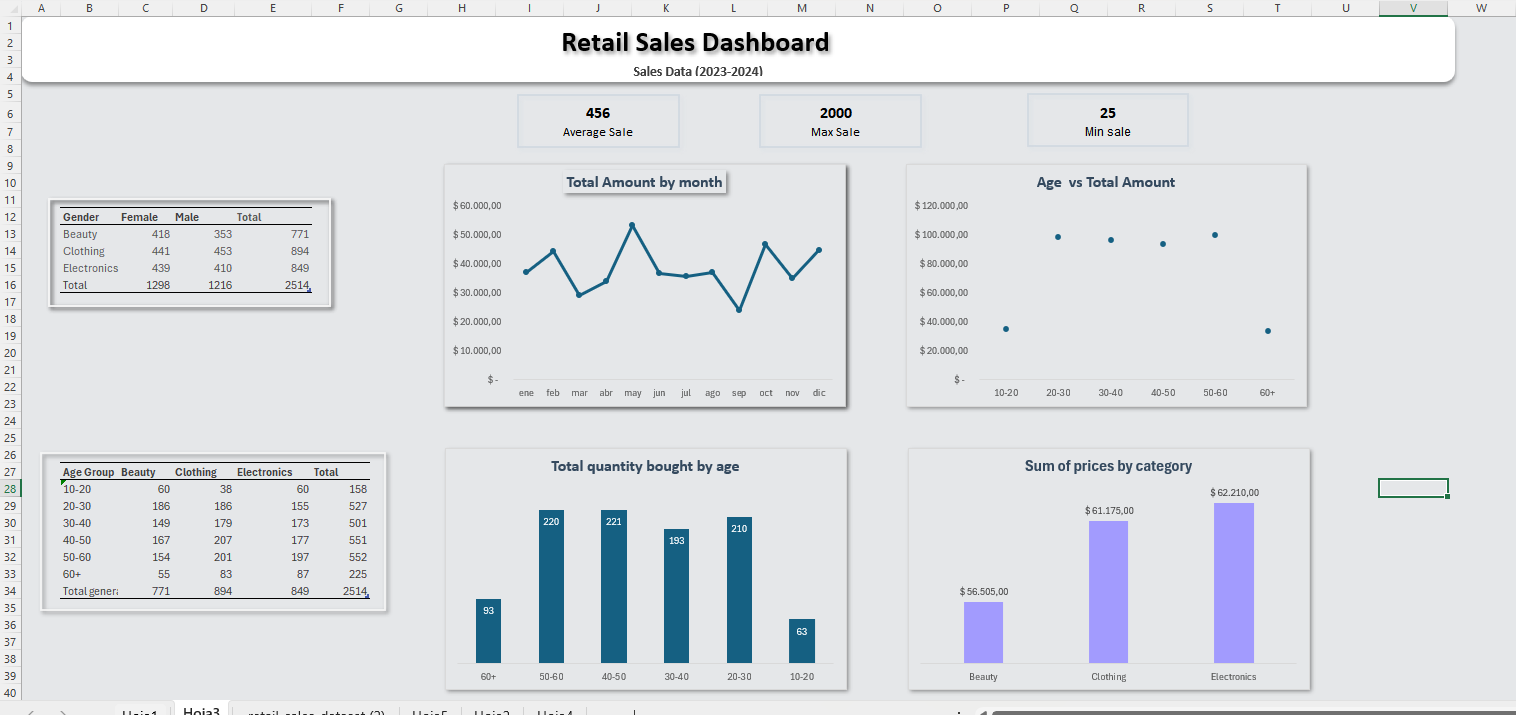

What the dashboard file says about the page in this screenshot:
{"tool":"powerbi","page":{"name":"Página 2","canvas":[1280,720],"ordinal":1},"visuals":[{"type":"columnChart","title":"Sum of prices by category","fields":{"Category":["retail_sales_dataset__2.Product Category"],"Y":["Sum(retail_sales_dataset__2.Price per Unit)"]},"box":[813.5,433.4,399.7,259.7],"z":0},{"type":"lineChart","title":"Total amount by month ","fields":{"Y":["Sum(retail_sales_dataset__2.Total_amount)"],"Category":["Calendario.Date.Variación.Jerarquía de fechas.Año","Calendario.Date.Variación.Jerarquía de fechas.Mes"]},"box":[379,126,400.1,267.1],"z":1000},{"type":"scatterChart","title":"Age and total amount","fields":{"X":["retail_sales_dataset__2.Age group"],"Y":["Sum(retail_sales_dataset__2.Total Amount)"]},"box":[814.4,126,399.1,267.1],"z":2000},{"type":"columnChart","title":"Total quantity bought by age ","fields":{"Category":["retail_sales_dataset__2.Age group"],"Y":["Sum(retail_sales_dataset__2.Quantity)"]},"box":[379,433.4,399.7,259.7],"z":3000},{"type":"shape","box":[0,0,1280,82],"z":4000},{"type":"textbox","box":[10.1,0,1241.5,74.9],"z":5000},{"type":"textbox","box":[513,57.7,299.5,24.3],"z":6000},{"type":"pivotTable","fields":{"Rows":["retail_sales_dataset__2.Age group"],"Columns":["retail_sales_dataset__2.Product Category"],"Values":["Sum(retail_sales_dataset__2.Quantity)"]},"box":[0,434.4,337.6,183.4],"z":7000},{"type":"pivotTable","fields":{"Rows":["retail_sales_dataset__2.Gender"],"Columns":["retail_sales_dataset__2.Product Category"],"Values":["Sum(retail_sales_dataset__2.Quantity)"]},"box":[10.1,134,299.3,103.8],"z":8000}]}

Visuals, with their boxes on the page's 1280x720 design canvas (x1, y1, x2, y2). These are canvas units, not pixel positions in the 1516x715 screenshot, which may show the page scaled, cropped or inside an application window:
"Sum of prices by category" columnChart: (814, 433, 1213, 693)
"Total amount by month " lineChart: (379, 126, 779, 393)
"Age and total amount" scatterChart: (814, 126, 1214, 393)
"Total quantity bought by age " columnChart: (379, 433, 779, 693)
shape: (0, 0, 1280, 82)
textbox: (10, 0, 1252, 75)
textbox: (513, 58, 812, 82)
pivotTable - retail_sales_dataset__2.Age group x retail_sales_dataset__2.Product Category: (0, 434, 338, 618)
pivotTable - retail_sales_dataset__2.Gender x retail_sales_dataset__2.Product Category: (10, 134, 309, 238)
